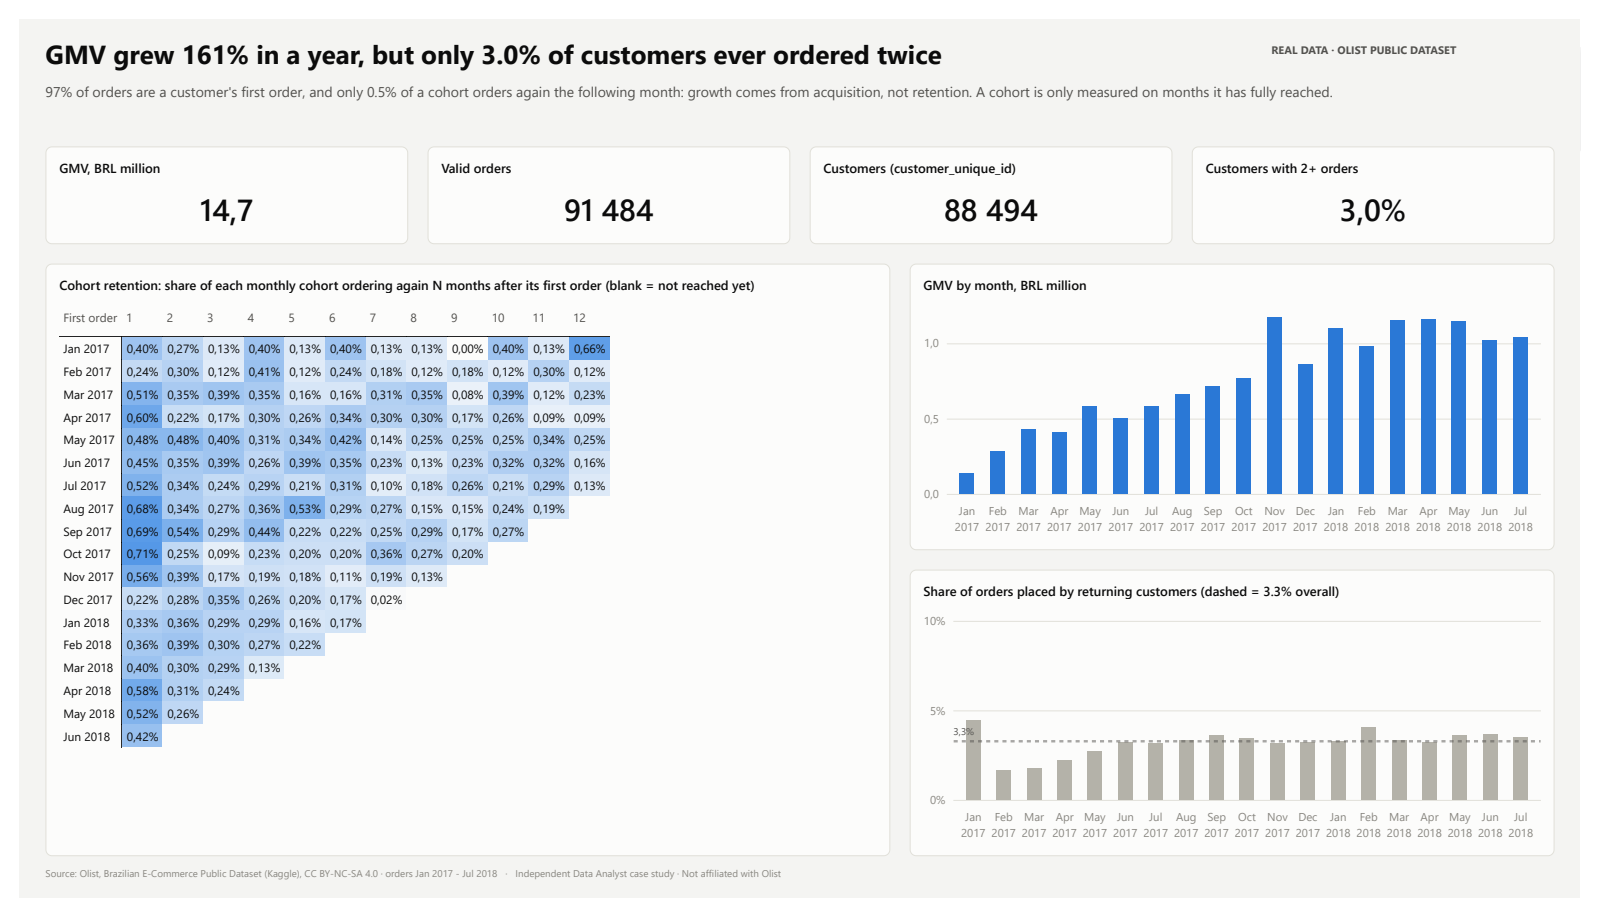

This screenshot's page, from the dashboard's own definition file:
{"tool":"powerbi","page":{"name":"1 · Growth & retention","canvas":[1920,1080],"ordinal":1},"visuals":[{"type":"textbox","box":[32,20,1500,56],"z":1000},{"type":"textbox","box":[1540,28,348,40],"z":2000},{"type":"textbox","box":[32,76,1856,64],"z":3000},{"type":"card","title":"GMV, BRL million","fields":{"Values":["_Measures.GMV (BRL m)"]},"box":[32,156,446,120],"z":4000},{"type":"card","title":"Valid orders","fields":{"Values":["_Measures.Order Count"]},"box":[502,156,446,120],"z":5000},{"type":"card","title":"Customers (customer_unique_id)","fields":{"Values":["_Measures.Customer Count"]},"box":[972,156,446,120],"z":6000},{"type":"card","title":"Customers with 2+ orders","fields":{"Values":["_Measures.Repeat Customer Rate"]},"box":[1442,156,446,120],"z":7000},{"type":"pivotTable","title":"Cohort retention: share of each monthly cohort ordering again N months after its first order (blank = not reached yet)","fields":{"Columns":["Cohort Retention.month_n"],"Rows":["Cohort Retention.cohort_label"],"Values":["_Measures.Cohort Retention"]},"box":[32,300,1039,728],"z":8000},{"type":"clusteredColumnChart","title":"GMV by month, BRL million","fields":{"Category":["Date.Month"],"Y":["_Measures.GMV (BRL m)"]},"box":[1095,300,793,352],"z":9000},{"type":"clusteredColumnChart","title":"Share of orders placed by returning customers (dashed = 3.3% overall)","fields":{"Category":["Date.Month"],"Y":["_Measures.Repeat Order Share"]},"box":[1095,676,793,352],"z":10000},{"type":"textbox","box":[32,1040,1856,32],"z":11000}]}

Visuals, with their boxes in screenshot pixels (x1, y1, x2, y2), scaled from the page's 1920x1080 canvas onto the 1600x918 screenshot:
textbox: (27, 17, 1277, 65)
textbox: (1283, 24, 1573, 58)
textbox: (27, 65, 1573, 119)
"GMV, BRL million" card: (27, 133, 398, 235)
"Valid orders" card: (418, 133, 790, 235)
"Customers (customer_unique_id)" card: (810, 133, 1182, 235)
"Customers with 2+ orders" card: (1202, 133, 1573, 235)
"Cohort retention: share of each monthly cohort ordering again N months after its first order (blank = not reached yet)" pivotTable: (27, 255, 892, 874)
"GMV by month, BRL million" clusteredColumnChart: (912, 255, 1573, 554)
"Share of orders placed by returning customers (dashed = 3.3% overall)" clusteredColumnChart: (912, 575, 1573, 874)
textbox: (27, 884, 1573, 911)
